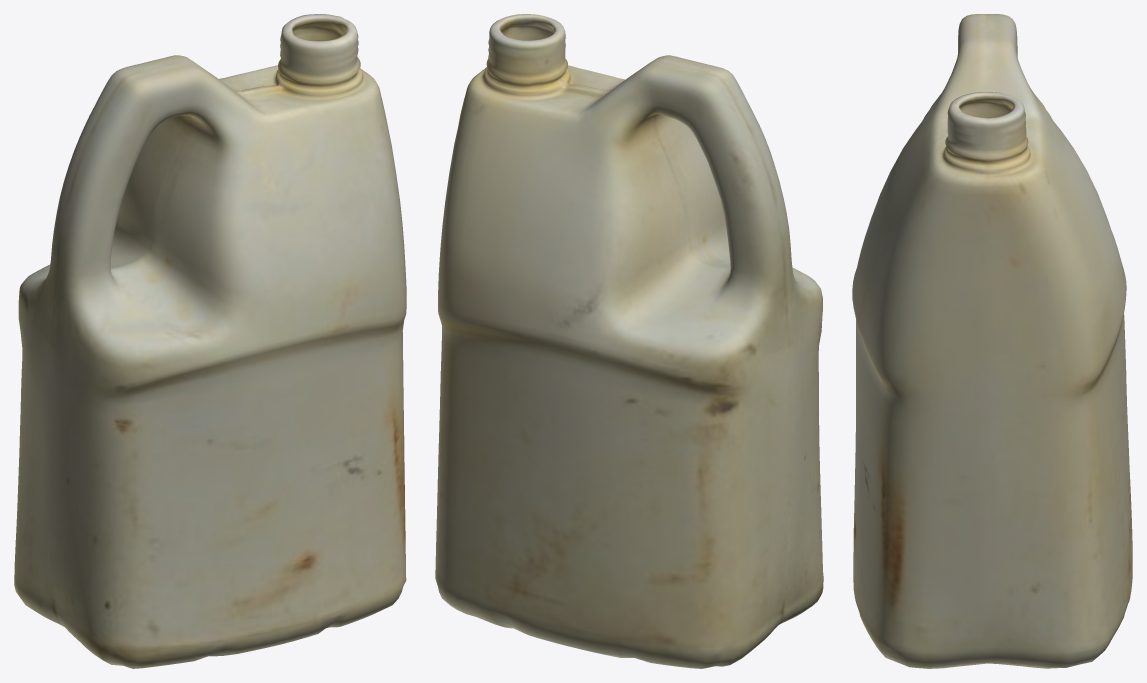
Rendered from plastic_bottle_gallon.glb.
3 views of the same model, side by side, from view 1: azimuth 30°, elevation 25°; view 2: azimuth 150°, elevation 25°; view 3: azimuth 270°, elevation 25° (orthographic).
Parts seen in each view (by area): view 1: plastic_bottle_gallon; view 2: plastic_bottle_gallon; view 3: plastic_bottle_gallon.
Boxes of the visible parts, left/top/right/bottom form: plastic_bottle_gallon: left=14, top=14, right=406, bottom=668; plastic_bottle_gallon: left=435, top=14, right=823, bottom=668; plastic_bottle_gallon: left=852, top=14, right=1132, bottom=668.
Bounding box in the file's own units: 0.1663 × 0.2745 × 0.1264.
Materials: 1 (1 with a texture image).
